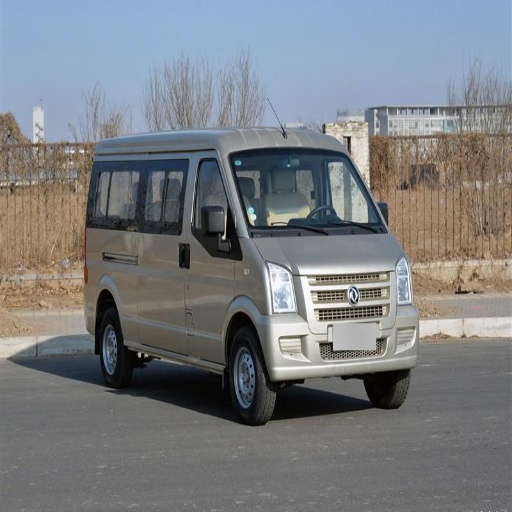front_bumper: (265, 270, 418, 378)
front_right_door: (165, 154, 237, 359)
front_right_light: (269, 266, 299, 312)
